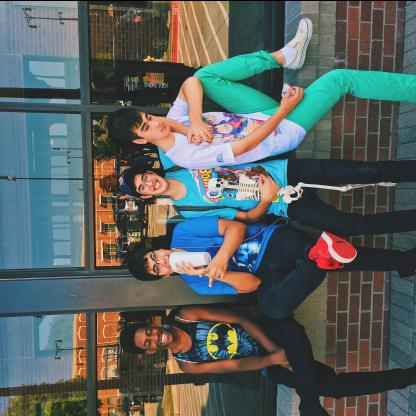Eye: (145, 124, 150, 131), (147, 338, 151, 346), (147, 328, 152, 334), (155, 264, 160, 270), (141, 184, 145, 190), (148, 114, 152, 120), (144, 174, 147, 180), (152, 254, 156, 258), (121, 196, 122, 198), (121, 198, 123, 199)
Mouth: (160, 330, 168, 345), (153, 178, 161, 190), (160, 121, 166, 132), (167, 254, 171, 266), (124, 196, 124, 198)
Nose: (148, 119, 160, 128), (148, 332, 158, 342), (156, 257, 166, 264), (145, 180, 153, 186), (122, 197, 124, 198)
